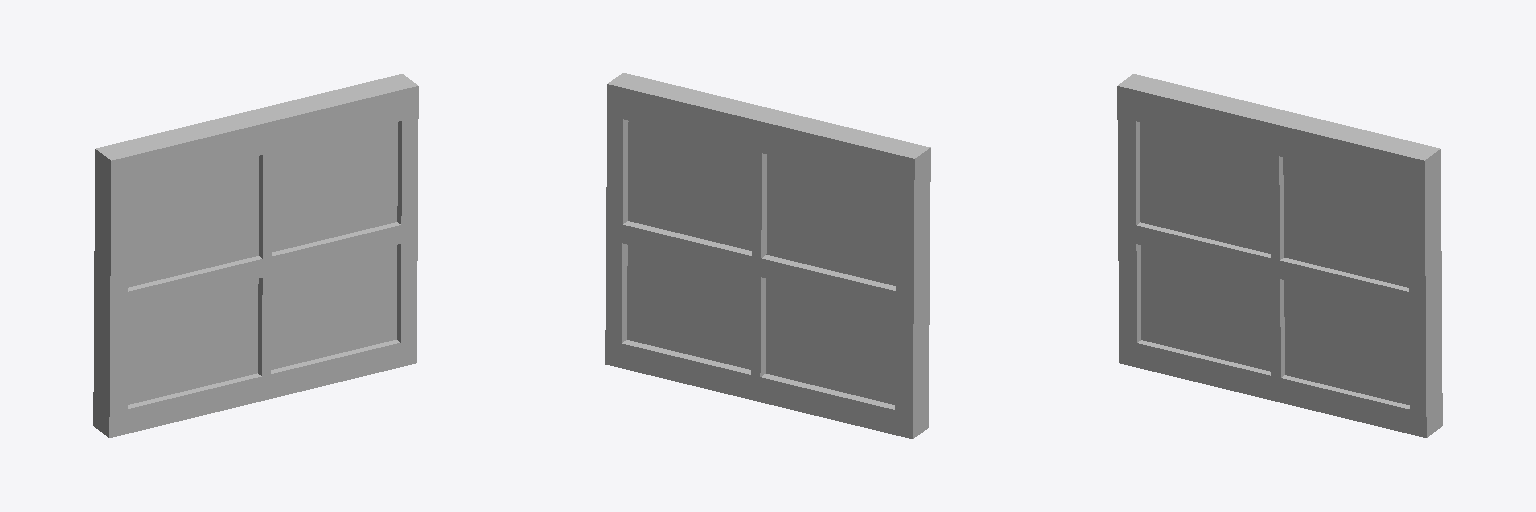
Rendered from ventanainteriorcocina.obj.
The picture shows the model from 3 angles: view 1: azimuth 30°, elevation 25°; view 2: azimuth 150°, elevation 25°; view 3: azimuth 330°, elevation 25°; orthographic projection.
Parts seen in each view (by area): view 1: fridge1:fridge1:fridge2:fridge1:pasted__pasted__pasted__pasted__; view 2: fridge1:fridge1:fridge2:fridge1:pasted__pasted__pasted__pasted__; view 3: fridge1:fridge1:fridge2:fridge1:pasted__pasted__pasted__pasted__.
Part boxes in pixels (bbox=[...]): fridge1:fridge1:fridge2:fridge1:pasted__pasted__pasted__pasted__: bbox=[93, 74, 418, 437]; fridge1:fridge1:fridge2:fridge1:pasted__pasted__pasted__pasted__: bbox=[605, 73, 930, 438]; fridge1:fridge1:fridge2:fridge1:pasted__pasted__pasted__pasted__: bbox=[1117, 74, 1442, 437].
Size of the model in its own units: 1.13 by 0.9802 by 0.1148.